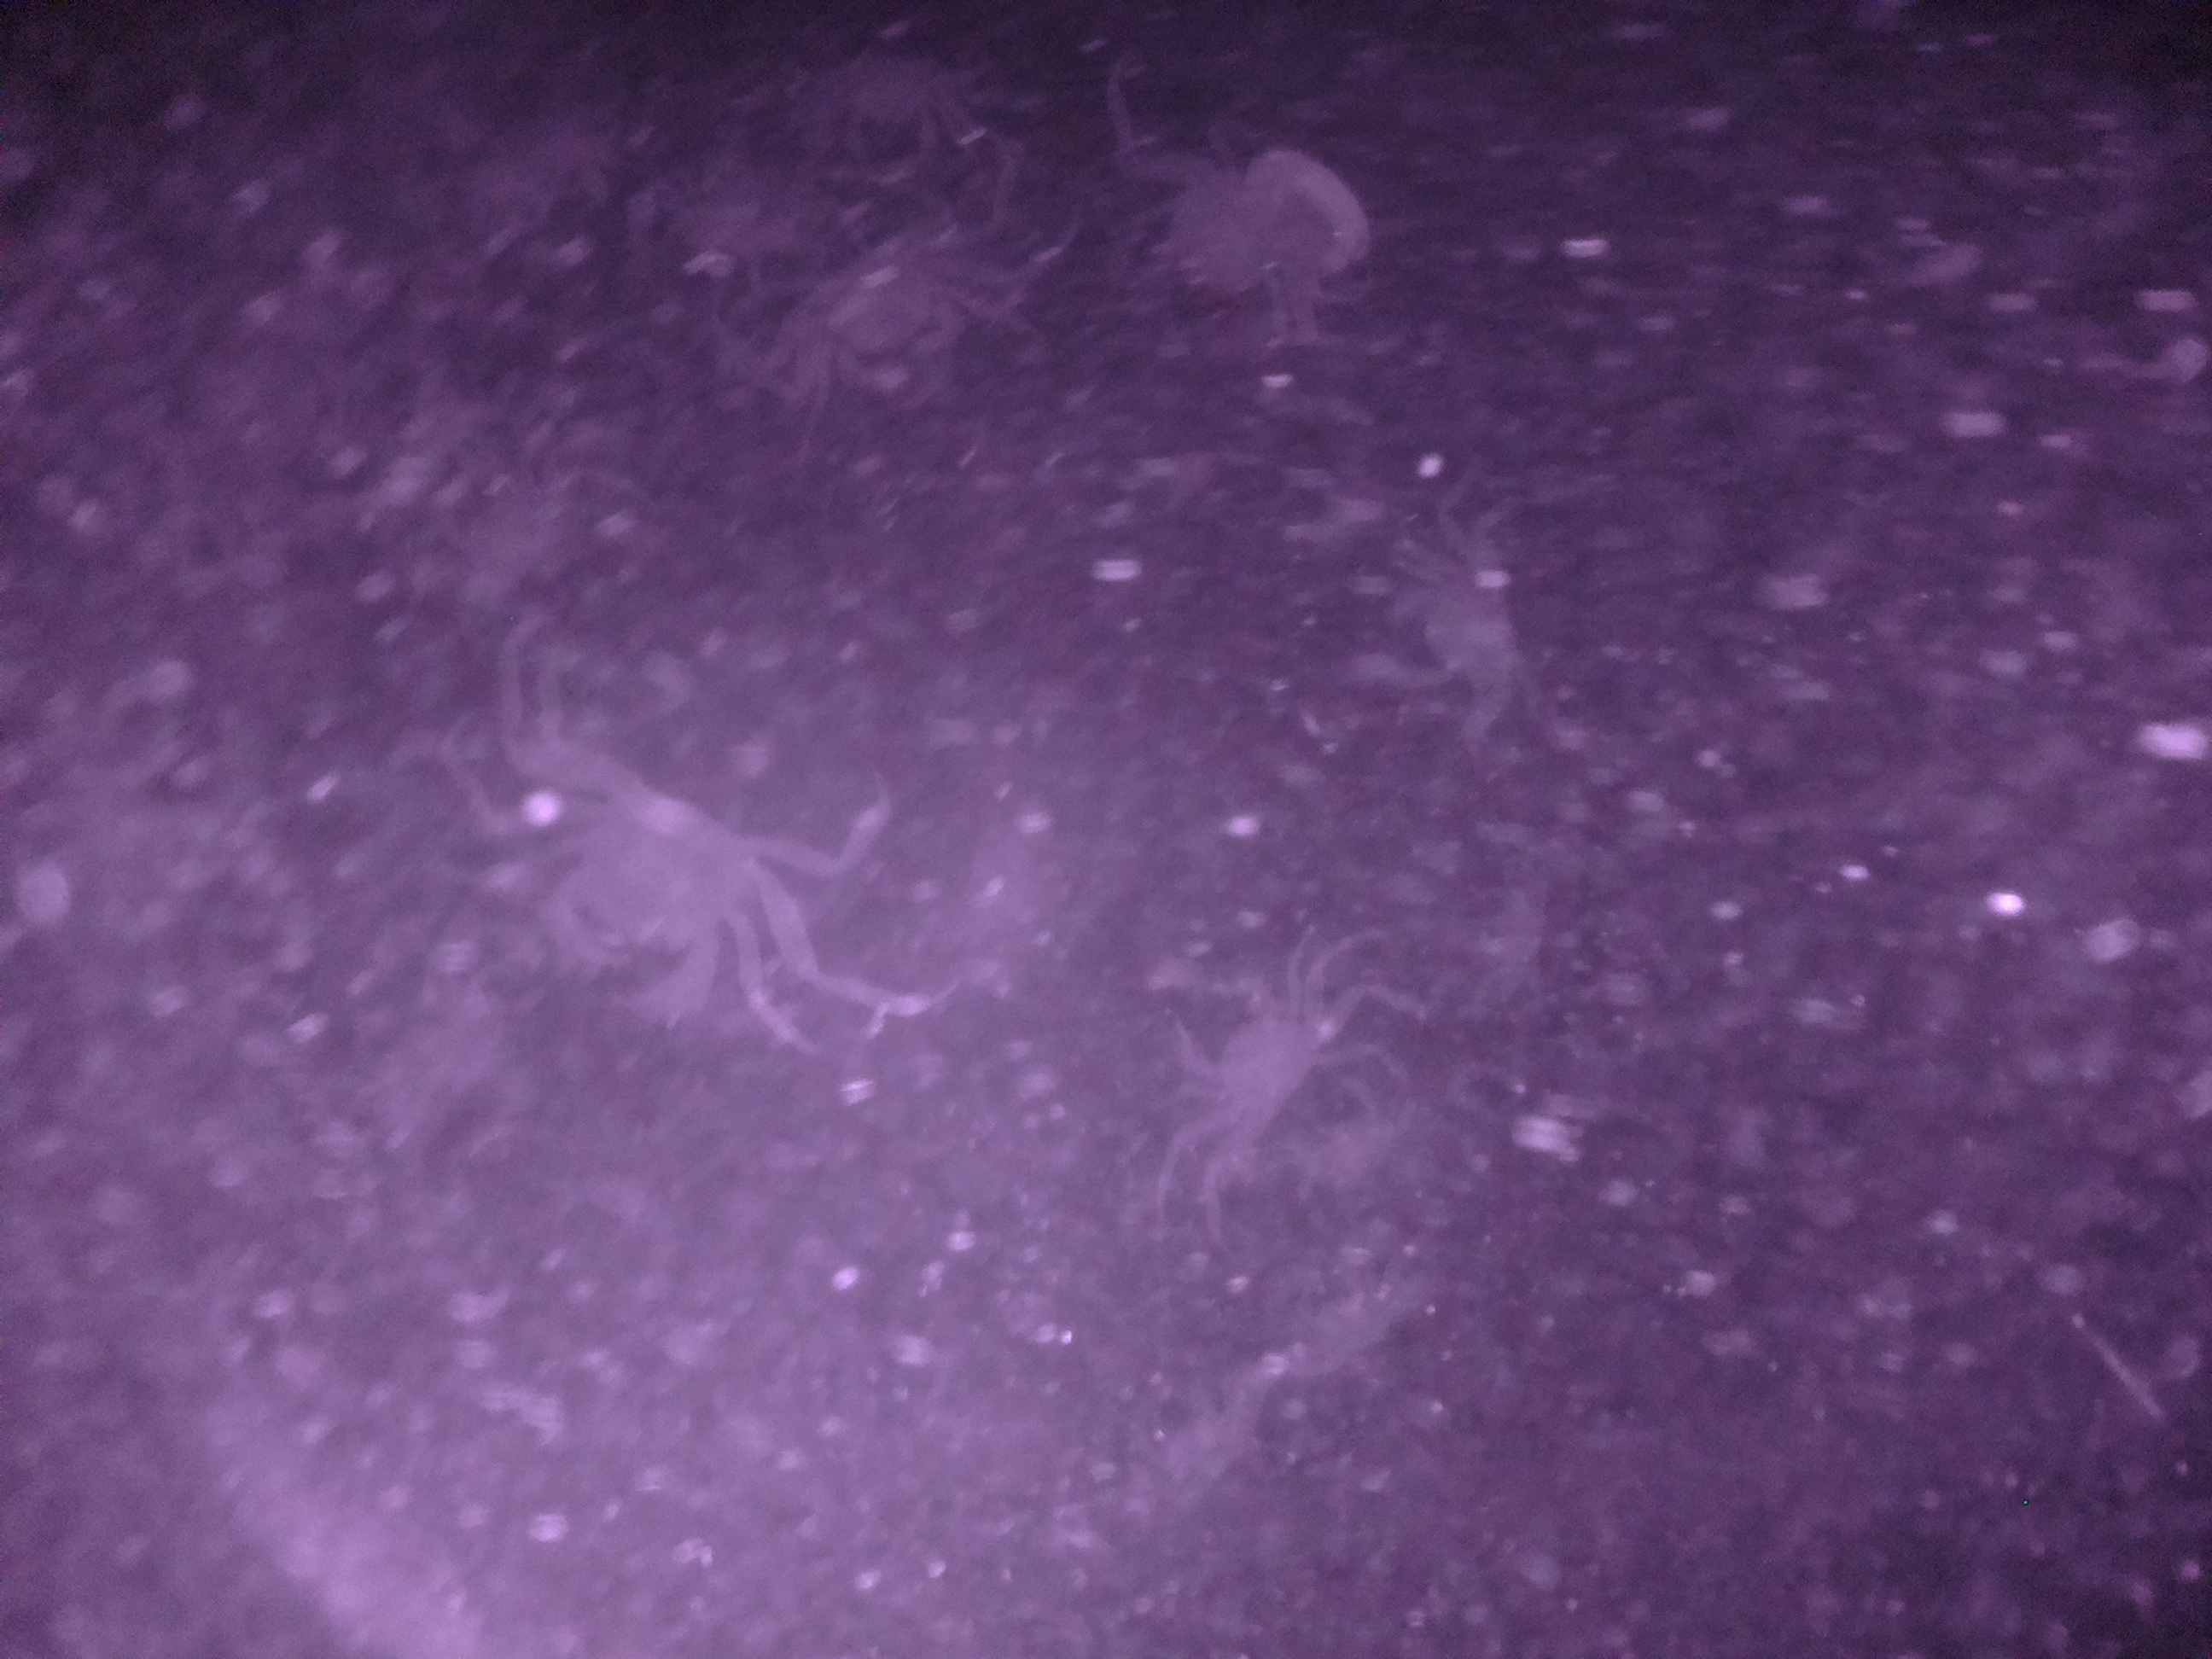Crab: (1160, 953, 1350, 1157)
